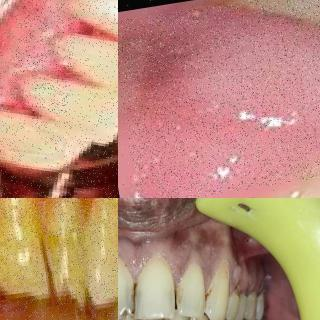Gum Swelling: (118, 0, 320, 198), (118, 243, 241, 297)
calculus: (201, 284, 218, 315)
stains: (126, 280, 142, 318), (173, 284, 185, 310)
